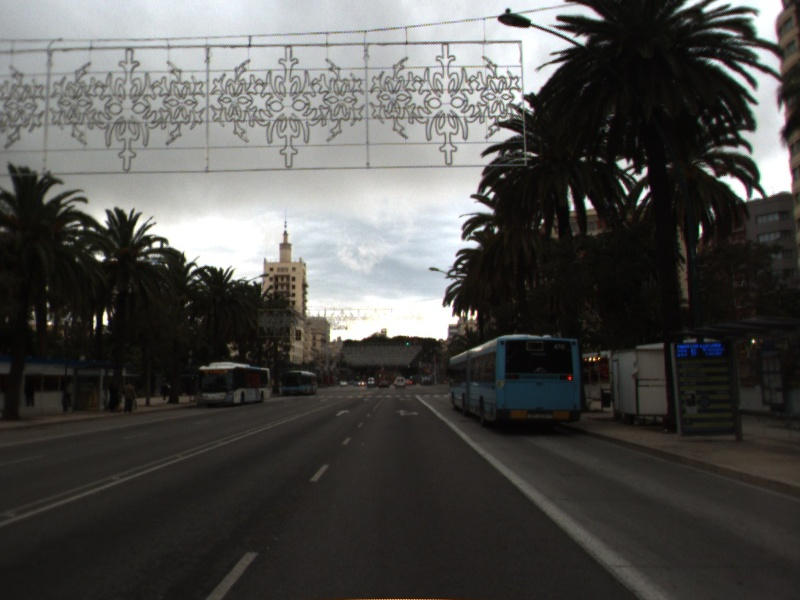STRAIGHT: (334, 408, 352, 418)
STRAIGHT_RIGHT: (393, 408, 421, 418)
